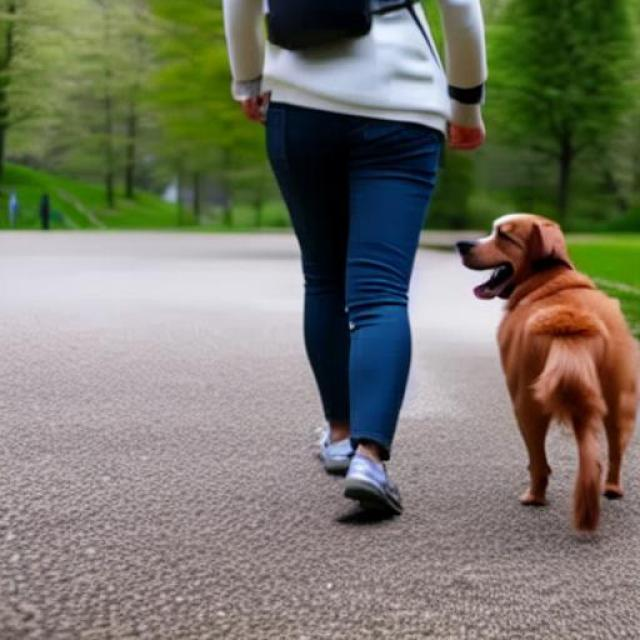Unleashed_Dog: (271, 67, 640, 536)
